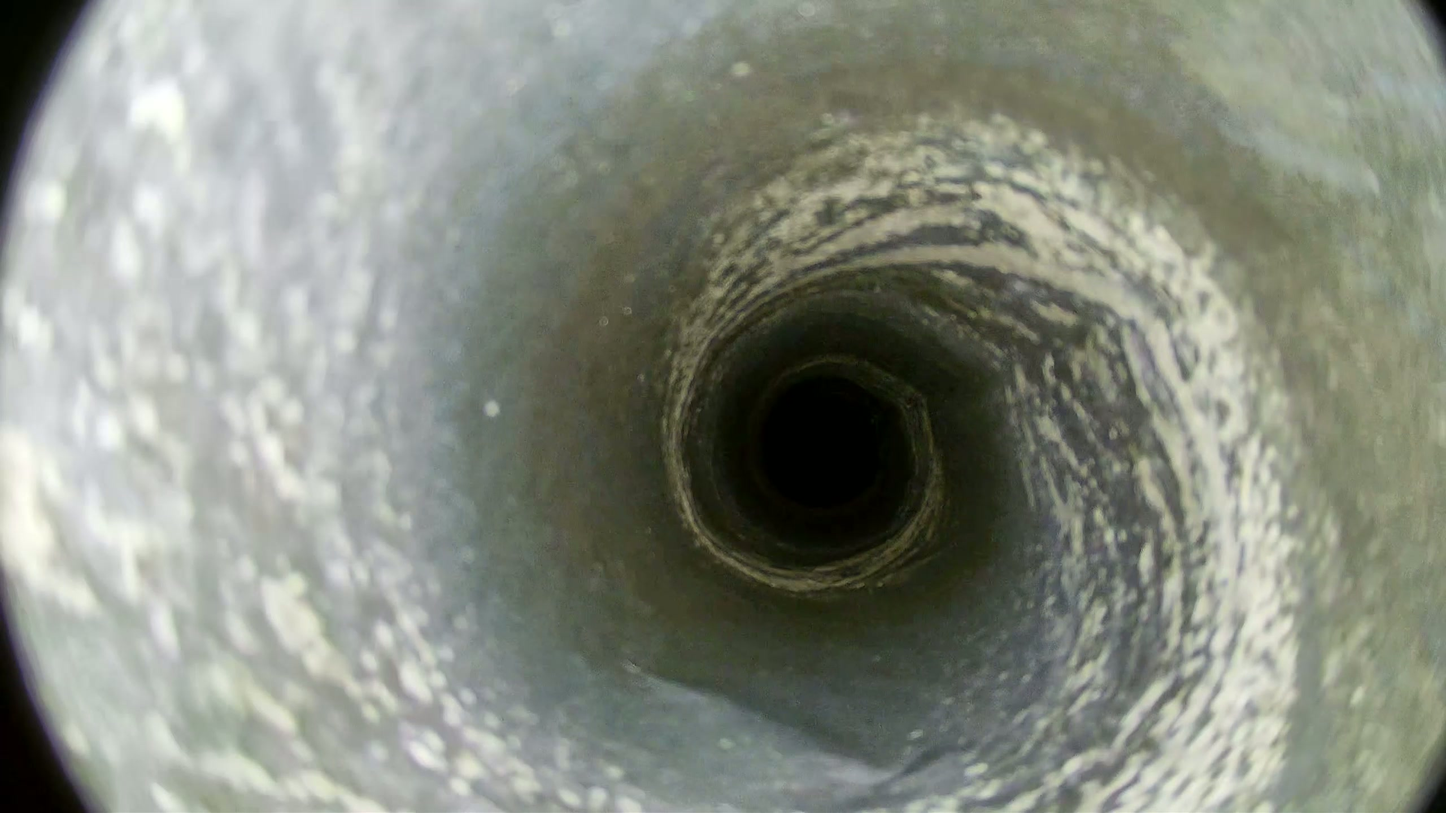hole: (763, 393, 881, 508)
